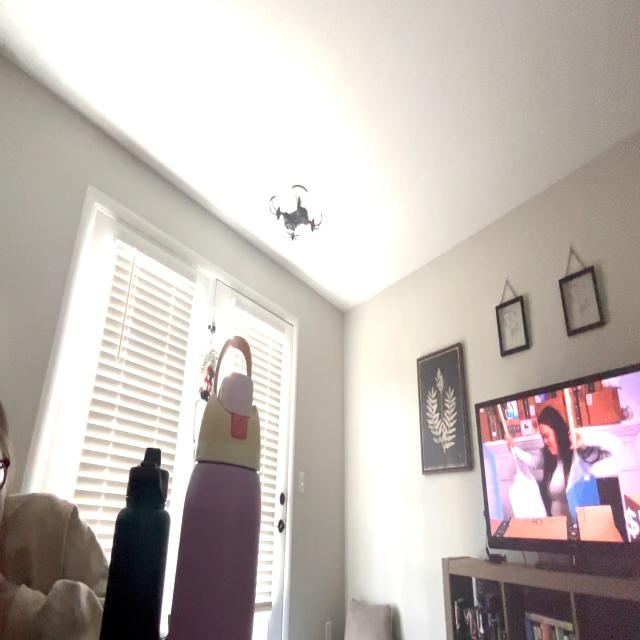drone: (253, 166, 328, 257)
